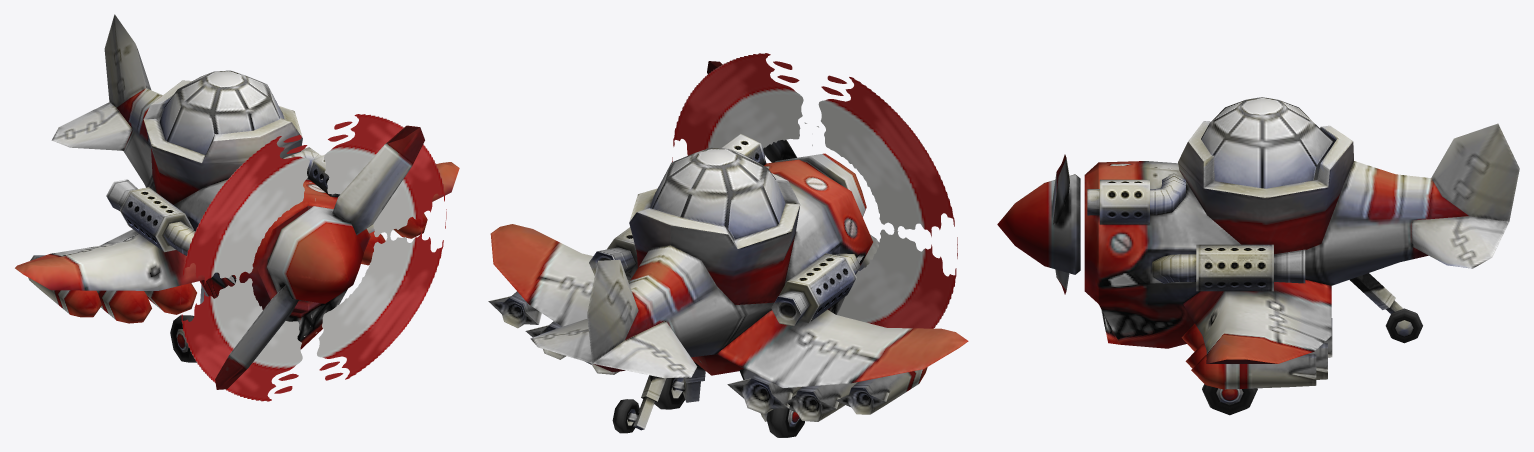
The picture shows the model from 3 angles, left to right: view 1: azimuth 30°, elevation 25°; view 2: azimuth 150°, elevation 25°; view 3: azimuth 270°, elevation 25°; orthographic projection. The views are drawn at different scales.
Parts seen in each view (by area): view 1: motionblurr, body, propeller, roof, bomb02, bomb01, bomb03, wheels, bomb06; view 2: body, motionblurr, roof, wheels, propeller, bomb01, bomb02, bomb03, bomb06; view 3: body, roof, propeller, bomb06, wheels, bomb05, bomb04.
Boxes of the visible parts, bbox=[...] form: motionblurr: bbox=[180, 114, 446, 401]; body: bbox=[15, 14, 459, 349]; propeller: bbox=[215, 125, 424, 389]; roof: bbox=[159, 70, 284, 154]; bomb02: bbox=[96, 290, 151, 323]; bomb01: bbox=[14, 255, 101, 317]; bomb03: bbox=[144, 283, 196, 314]; wheels: bbox=[170, 284, 208, 362]; bomb06: bbox=[393, 213, 427, 238]; body: bbox=[490, 134, 968, 387]; motionblurr: bbox=[672, 53, 957, 328]; roof: bbox=[650, 147, 785, 239]; wheels: bbox=[612, 361, 804, 437]; propeller: bbox=[707, 61, 879, 270]; bomb01: bbox=[835, 367, 927, 414]; bomb02: bbox=[785, 382, 857, 421]; bomb03: bbox=[727, 374, 801, 414]; bomb06: bbox=[488, 291, 541, 328]; body: bbox=[1084, 121, 1519, 363]; roof: bbox=[1201, 97, 1332, 188]; propeller: bbox=[997, 154, 1080, 294]; bomb06: bbox=[1191, 354, 1316, 389]; wheels: bbox=[1202, 273, 1422, 415]; bomb05: bbox=[1185, 343, 1327, 379]; bomb04: bbox=[1181, 318, 1332, 357].
Bounding box in the file's own units: 3.81 × 2.45 × 3.7.
1 material, 1 textured.
